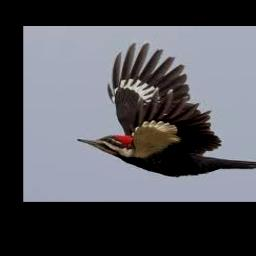Woodpecker: (76, 43, 256, 176)
